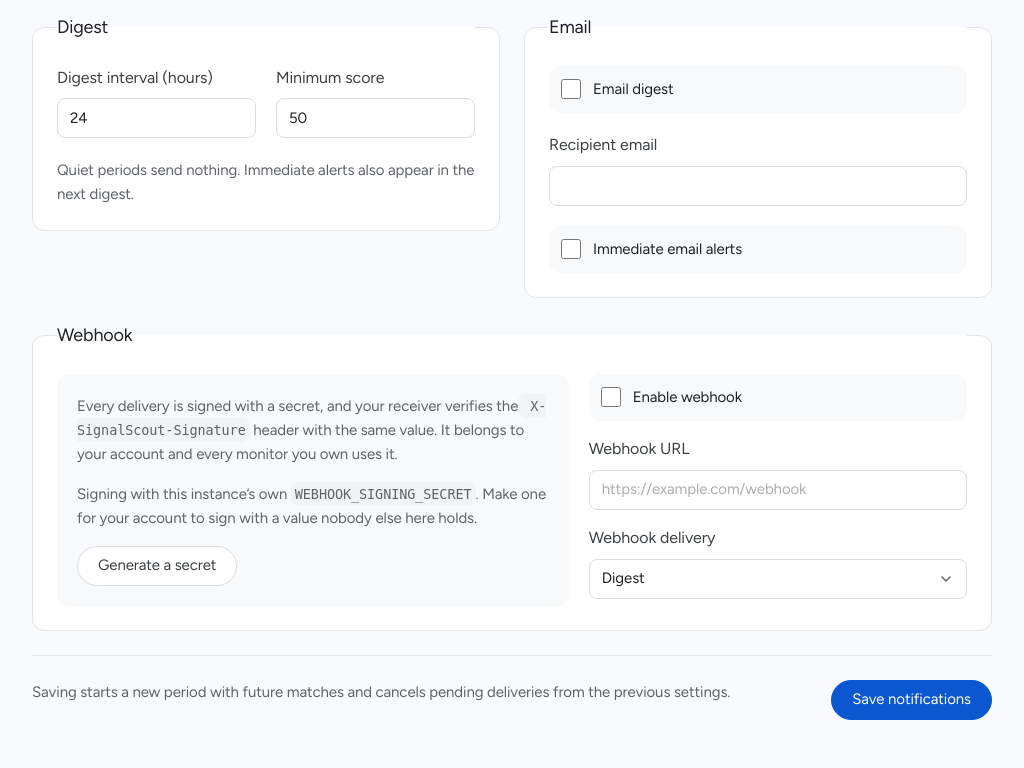
it: keeps the form and reports a failed save
The width and height of the screenshot is (1024, 768).
(page scrolled)
Click the button "Save notifications" at (912, 700), box 831,680 -> 992,720
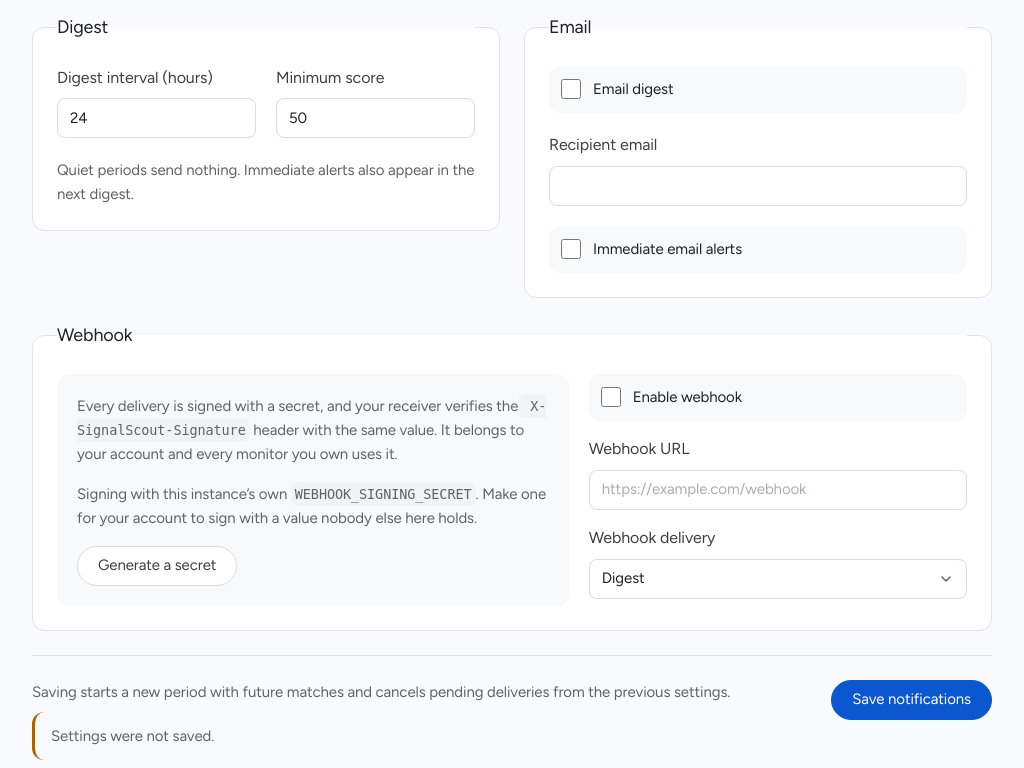
Check: the message "Settings were not saved." is shown, box 32,712 -> 730,760
